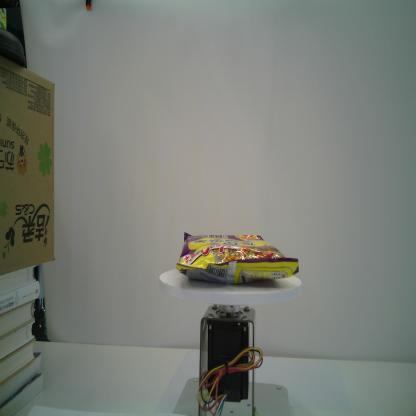Instant Noodles: (174, 230, 300, 286)
